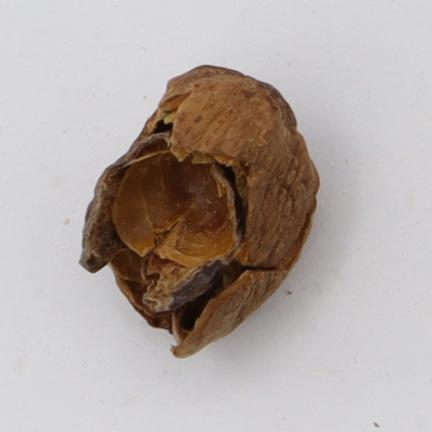full-black: (81, 67, 319, 356)
